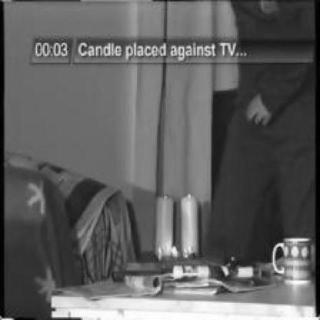other: (134, 70, 208, 188), (153, 193, 197, 253)
